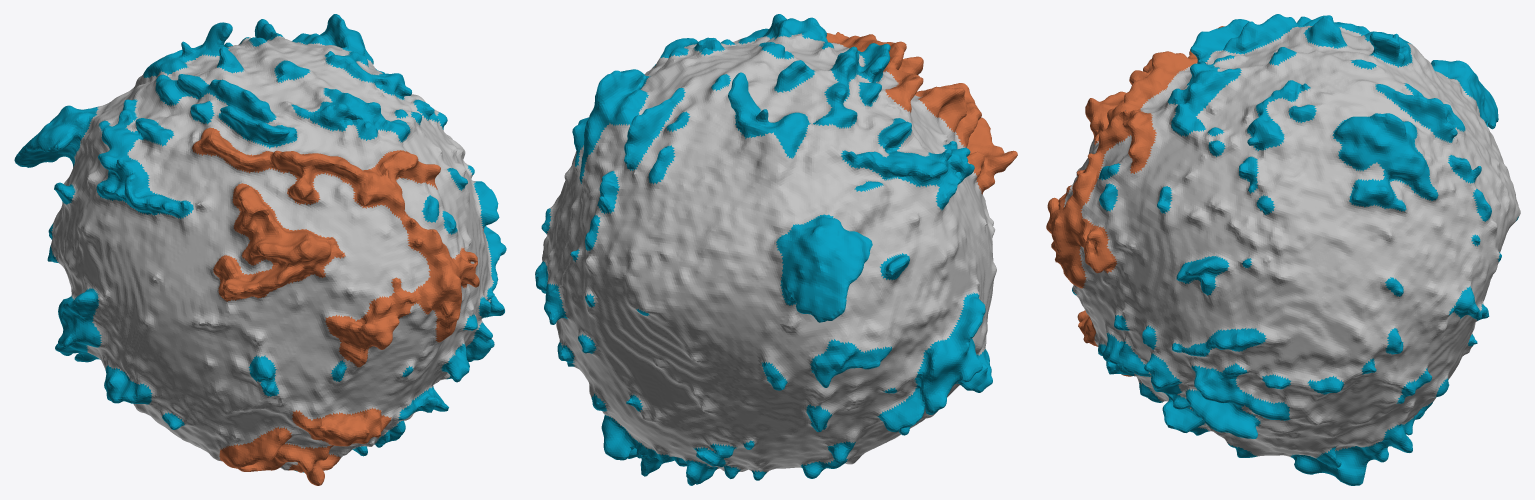
3 views of the same model, side by side, from view 1: azimuth 30°, elevation 25°; view 2: azimuth 150°, elevation 25°; view 3: azimuth 270°, elevation 25° (orthographic). The views are drawn at different scales.
Size of the model in its own units: 155 by 152 by 160.
